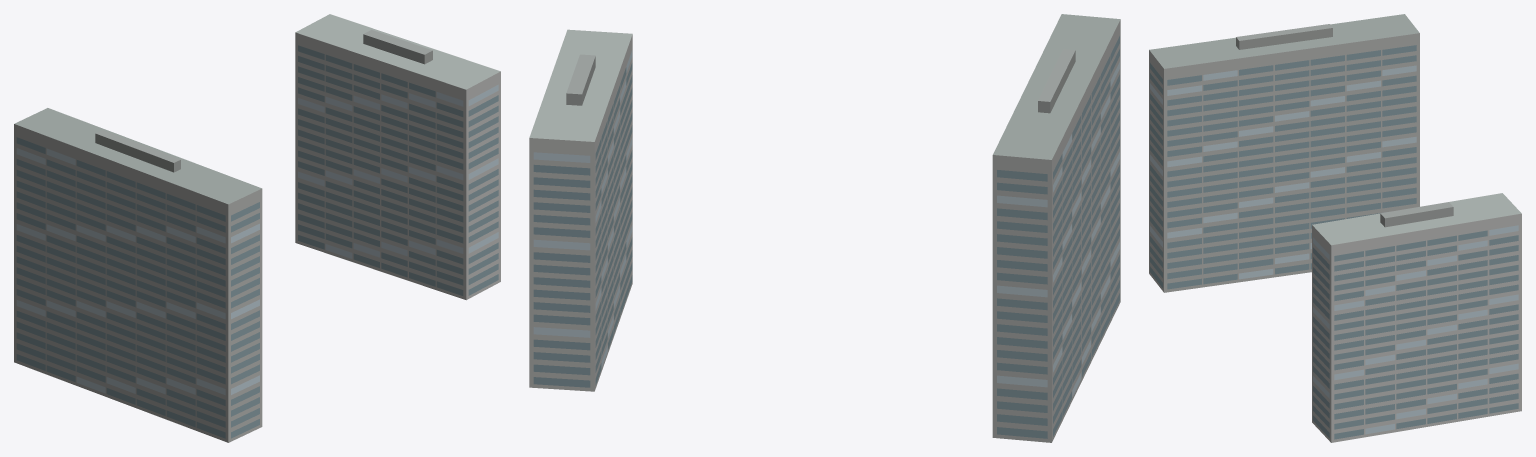
Rendered from apt-a10026024.glb.
The picture shows the model from 3 angles, left to right: view 1: azimuth 30°, elevation 25°; view 2: azimuth 150°, elevation 25°; view 3: azimuth 270°, elevation 25°; orthographic projection. The views are drawn at different scales.
Visible parts, largest first — view 1: apt-a10026024; view 2: apt-a10026024; view 3: apt-a10026024.
Boxes of the visible parts, left/top/right/bottom form: apt-a10026024: left=14, top=14, right=500, bottom=442; apt-a10026024: left=529, top=14, right=1120, bottom=442; apt-a10026024: left=1149, top=14, right=1521, bottom=442.
Bounding box in the file's own units: 117 × 62 × 89.91.
